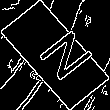N_SW: (21, 23, 89, 87)
